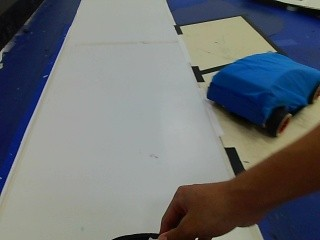car: (197, 50, 318, 136)
